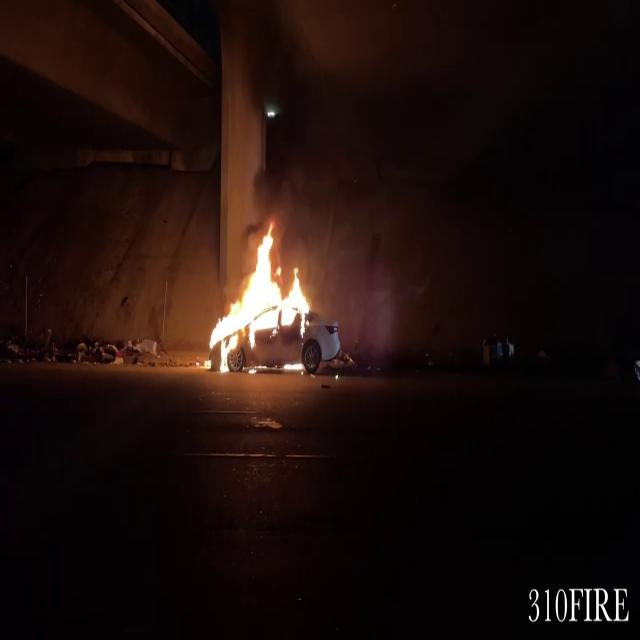Fire: (198, 222, 316, 366)
